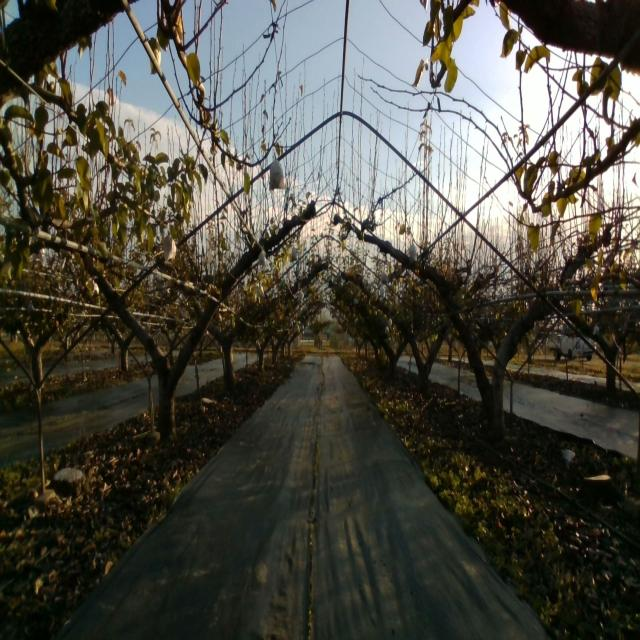pearbags: (268, 157, 285, 191), (162, 231, 176, 262)
